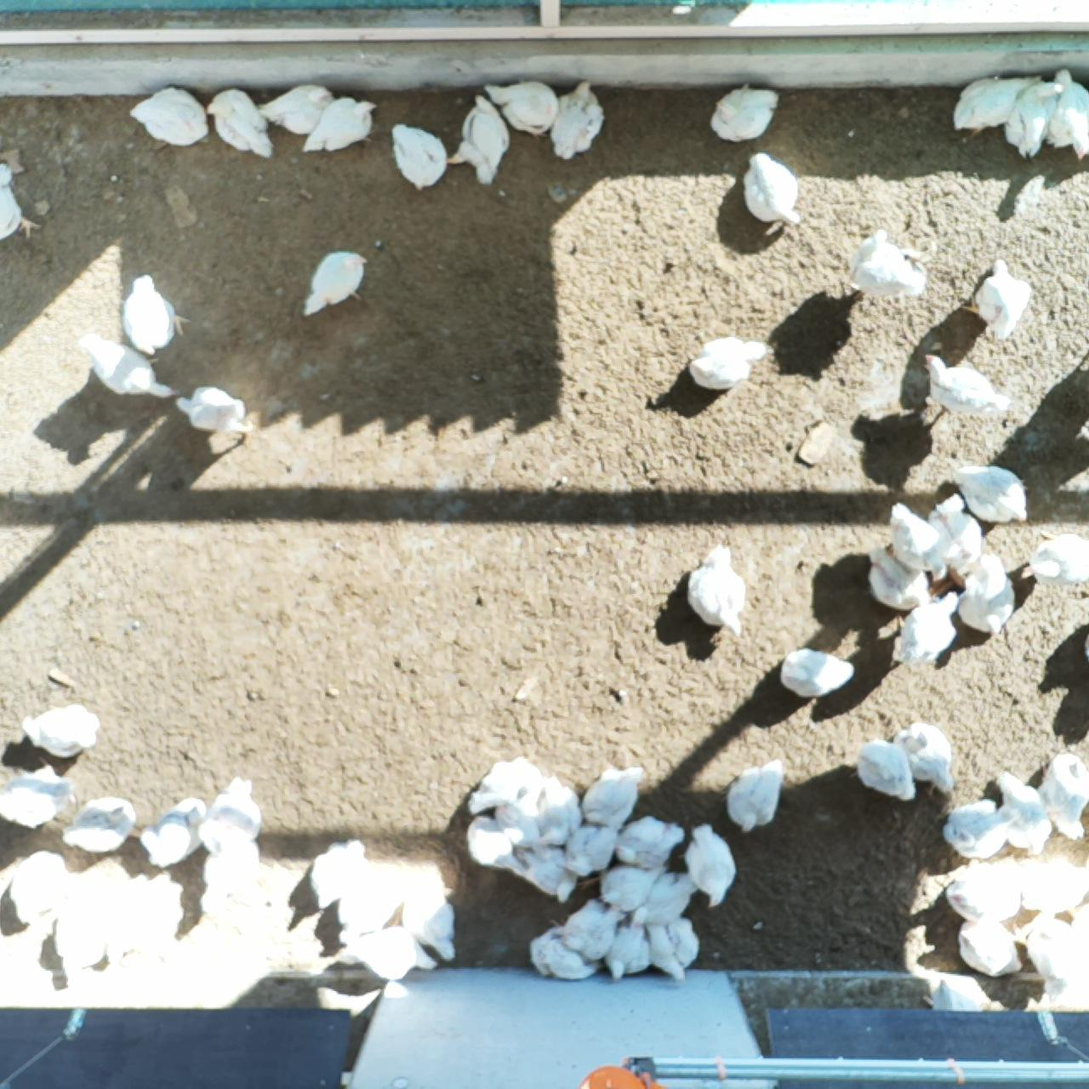chicken: (844, 221, 933, 307), (78, 329, 181, 403), (922, 347, 1014, 427), (958, 255, 1034, 349), (682, 539, 751, 642), (115, 268, 192, 360), (334, 860, 411, 951), (986, 764, 1056, 861), (334, 924, 443, 985), (950, 68, 1042, 140), (445, 89, 511, 188), (194, 835, 268, 922), (106, 881, 184, 963), (1012, 912, 1083, 1000), (954, 546, 1019, 642), (136, 789, 211, 872), (51, 893, 121, 981), (892, 587, 966, 670), (942, 854, 1029, 924), (739, 147, 810, 232), (194, 771, 266, 854), (0, 754, 77, 831), (686, 332, 773, 400), (543, 896, 632, 962), (127, 84, 214, 151), (298, 246, 368, 329), (677, 819, 740, 910), (704, 79, 788, 147), (886, 498, 950, 587), (401, 871, 462, 964), (479, 76, 562, 144), (721, 754, 788, 838), (205, 86, 277, 164), (949, 459, 1034, 525), (544, 77, 610, 162), (891, 718, 960, 798), (60, 792, 143, 858), (865, 538, 936, 614), (939, 796, 1022, 861), (924, 491, 987, 576), (1036, 745, 1089, 845), (952, 913, 1028, 981), (299, 94, 382, 156), (1004, 76, 1065, 160), (386, 117, 452, 194), (16, 699, 101, 758), (462, 753, 544, 814), (9, 849, 72, 928), (174, 383, 259, 440), (311, 838, 370, 918), (259, 80, 339, 139), (577, 860, 669, 911), (579, 763, 647, 831), (854, 736, 919, 807), (778, 644, 859, 700), (627, 869, 698, 932), (609, 816, 687, 873), (507, 843, 577, 905), (462, 813, 528, 877), (522, 930, 602, 982), (1025, 527, 1089, 591), (0, 158, 45, 249), (1046, 64, 1089, 158), (646, 913, 701, 986), (531, 771, 583, 848), (557, 821, 619, 880), (601, 923, 656, 985), (496, 800, 550, 857)
